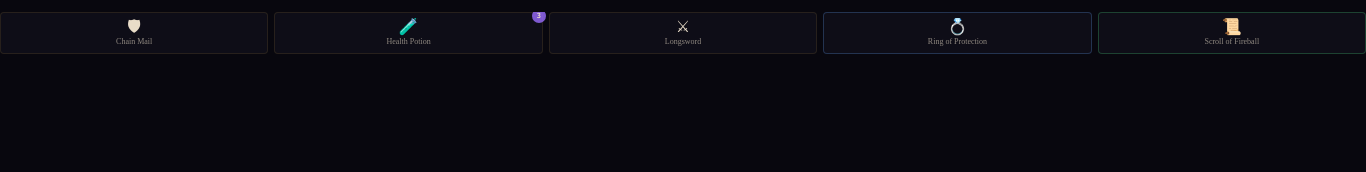
InventoryList › interactions › should show context menu on right-click with View Details and Drop
This screenshot has width=1366, height=172.
# Right-click on an item
Right-click the button labelled "⚔ Longsword": coordinates (683, 33) x1=549 y1=12 x2=817 y2=54
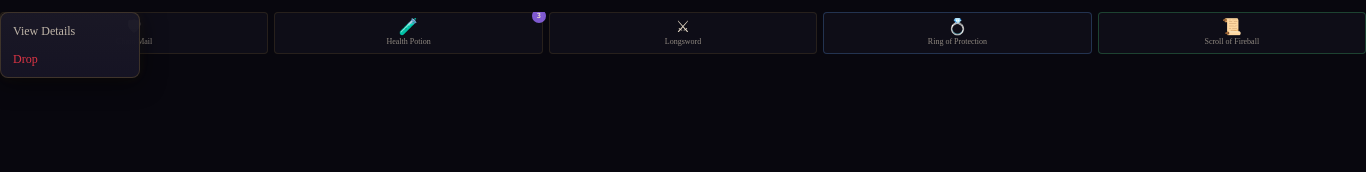
Result: the button "View Details" is shown at x1=1 y1=17 x2=139 y2=45
Result: the button "Drop" is shown at x1=1 y1=45 x2=139 y2=73
